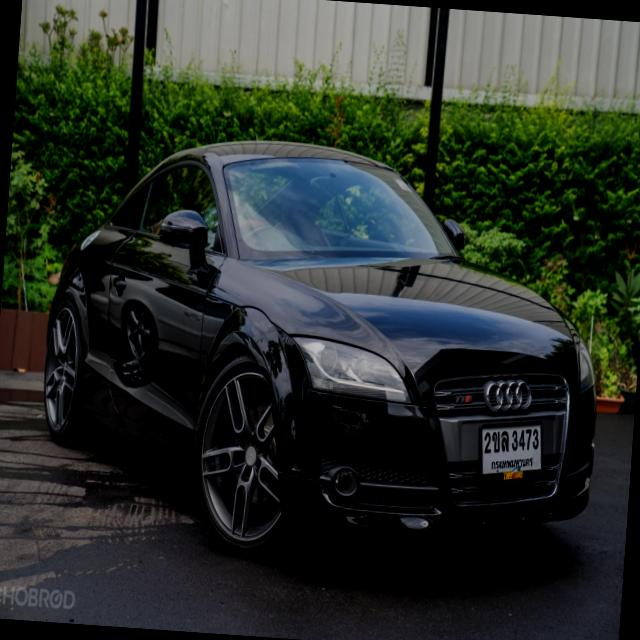license_plate: (474, 415, 550, 488)
